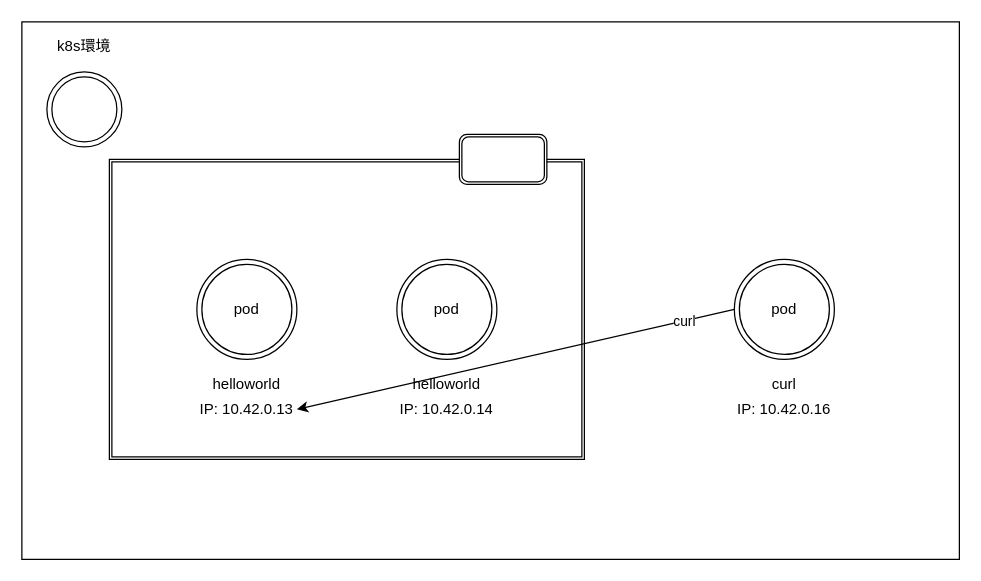
The diagram is 981 pixels wide and 581 high, and some of its shapes have lost their labels. The shapes that lost their labels are listed below. From the top down, each one's centre as x and y in pixels, then its label:
(84,109): master
(502,158): port 8080
